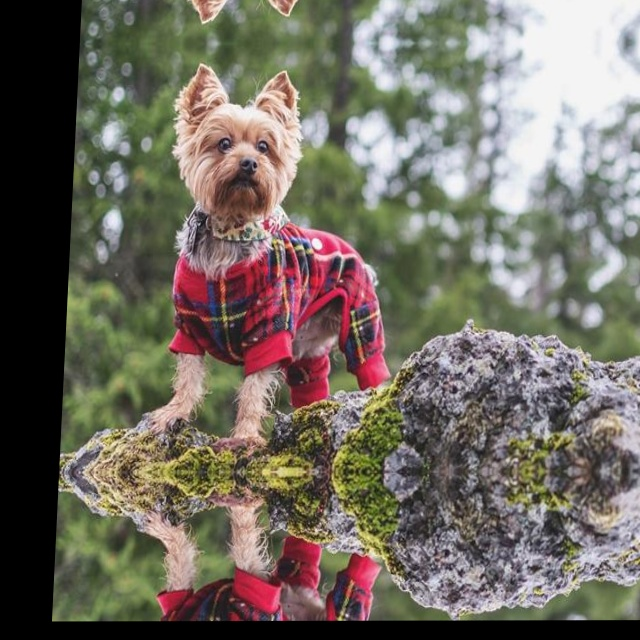dog: (161, 48, 314, 226), (170, 0, 322, 37)
